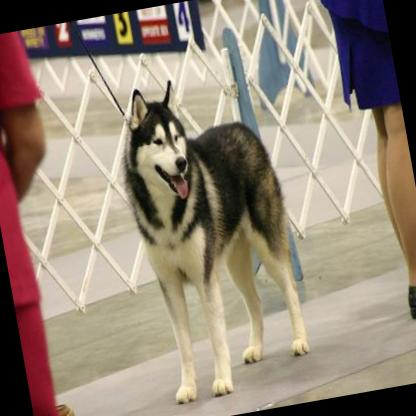Eskimo_dog: (104, 57, 315, 408)
